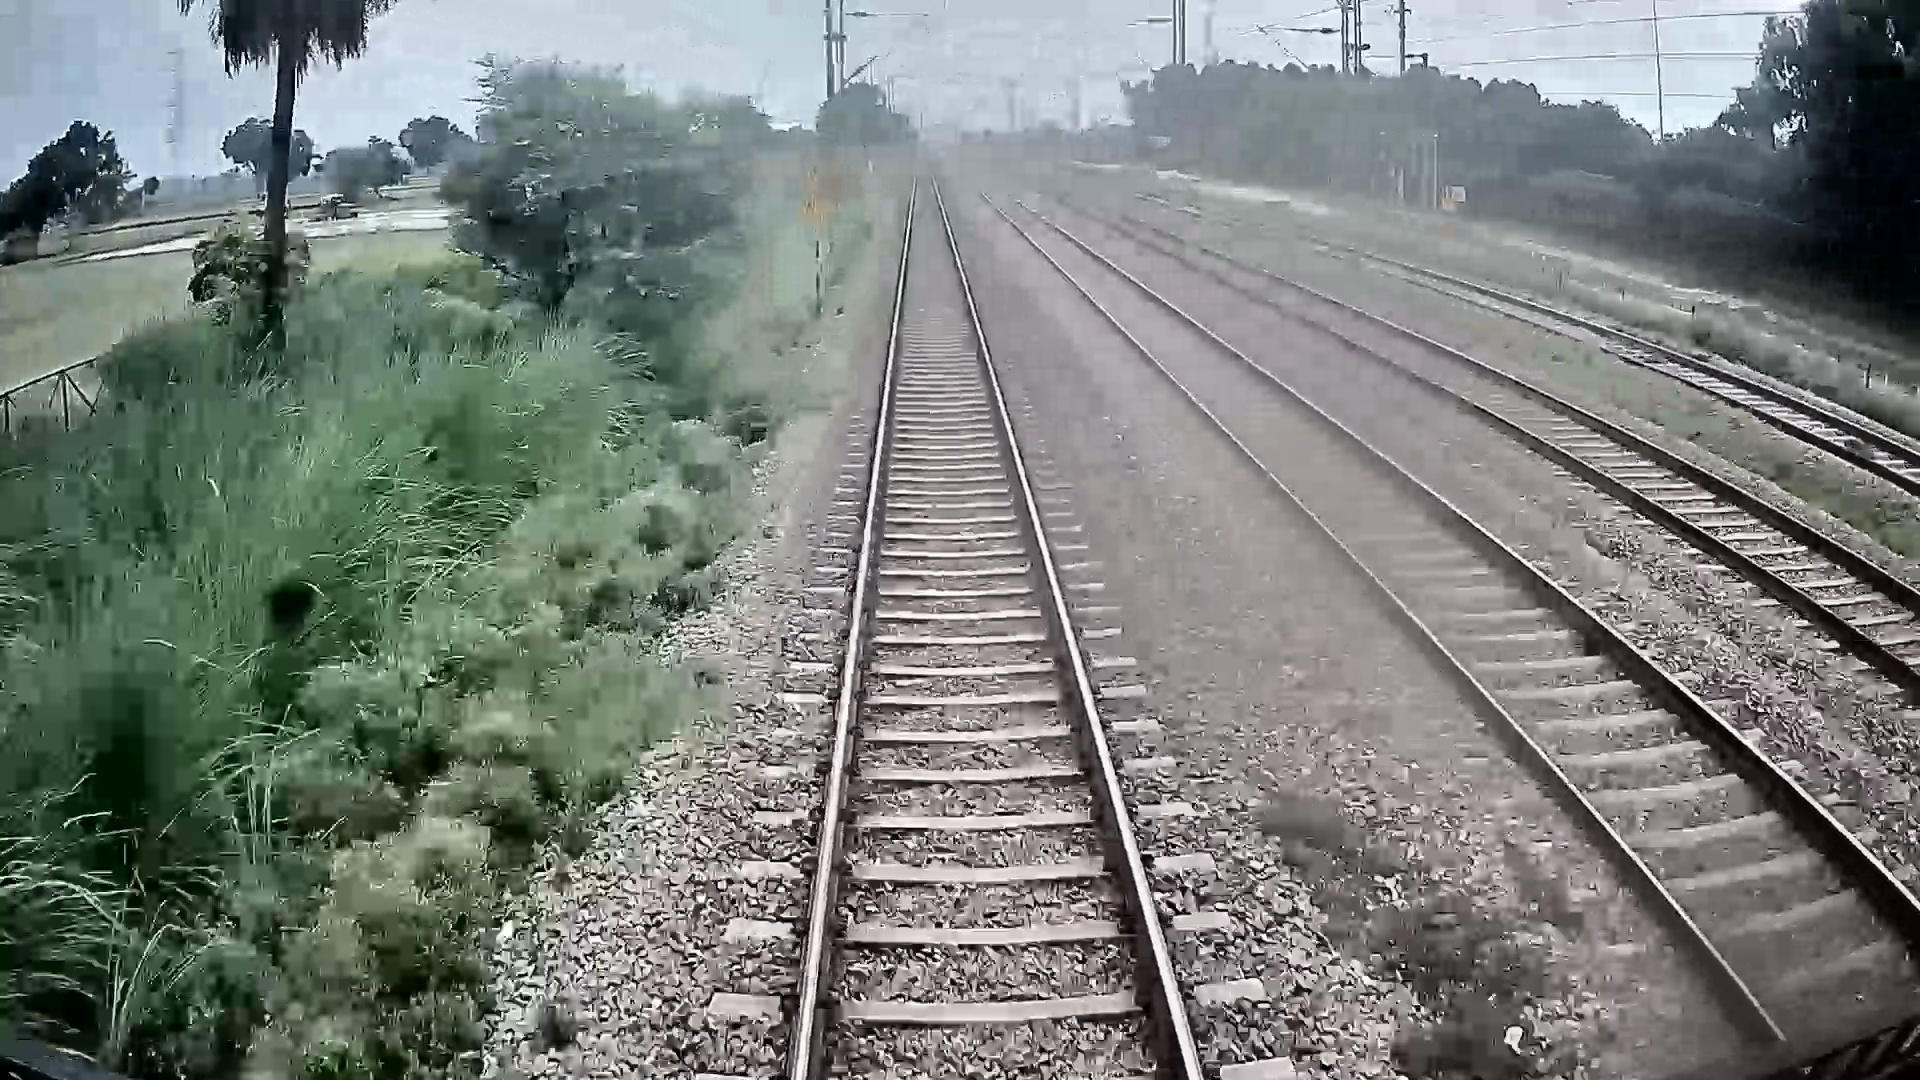track1: (806, 211, 1176, 1023)
track2: (1025, 235, 1905, 997)
track3: (1160, 248, 1911, 655)
track4: (1393, 262, 1916, 476)
